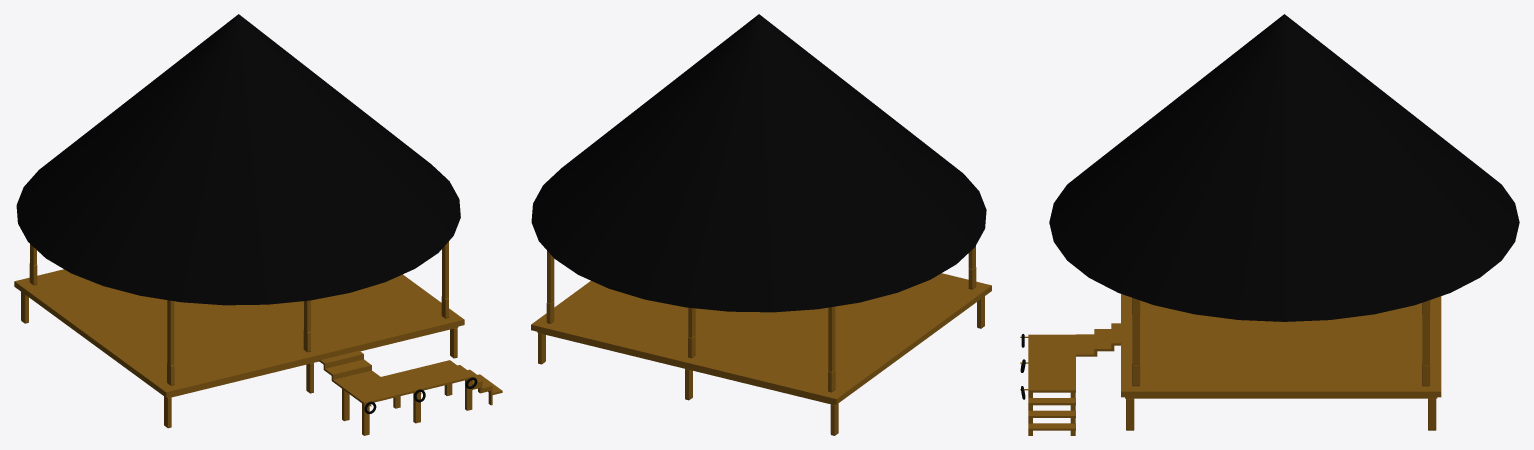
File: House_1.fbx
The picture shows the model from 3 angles, left to right: view 1: azimuth 30°, elevation 25°; view 2: azimuth 150°, elevation 25°; view 3: azimuth 270°, elevation 25°; orthographic projection. The views are drawn at different scales.
Parts seen in each view (by area): view 1: Cube; view 2: Cube; view 3: Cube.
Boxes of the visible parts, x1,y1,x2,y2 form: Cube: [14, 14, 502, 435]; Cube: [531, 14, 991, 435]; Cube: [1020, 14, 1519, 435].
Bounding box in the file's own units: 798 × 662 × 847.
Materials: 1 (1 with a texture image).
